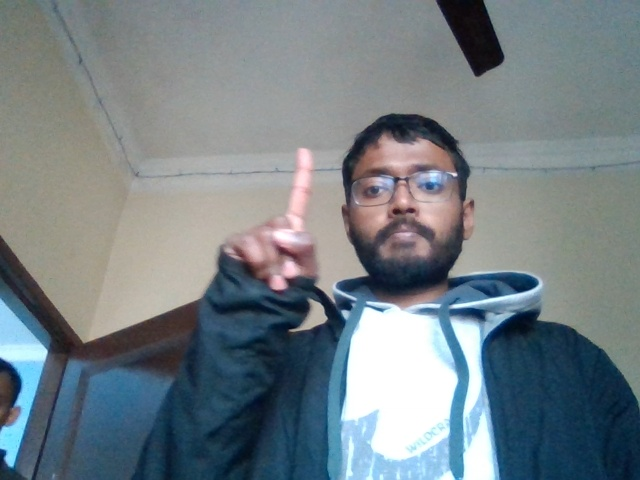where: (220, 137, 322, 305)
